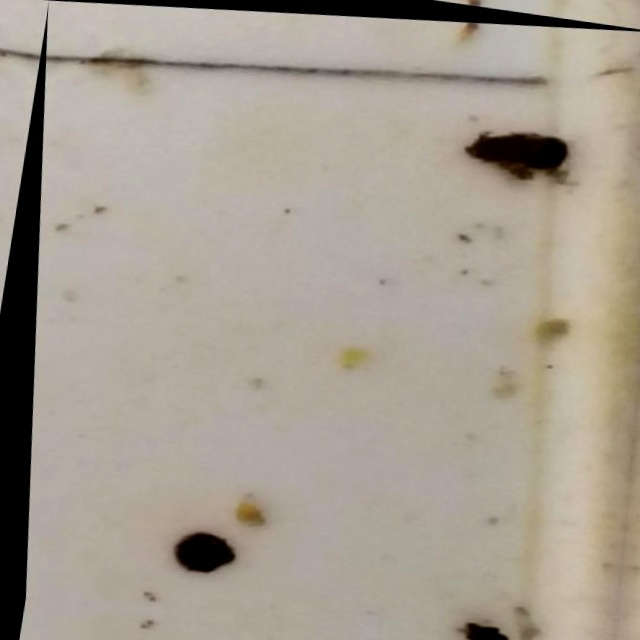varroa: (454, 126, 574, 177), (161, 522, 230, 575)
